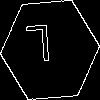L: (25, 25, 52, 72)
